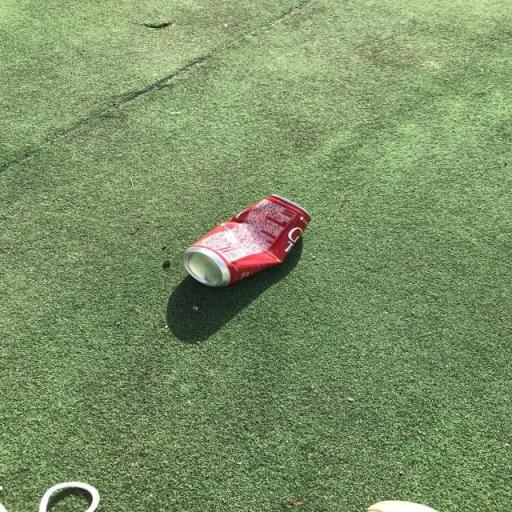metal: (172, 180, 327, 304)
